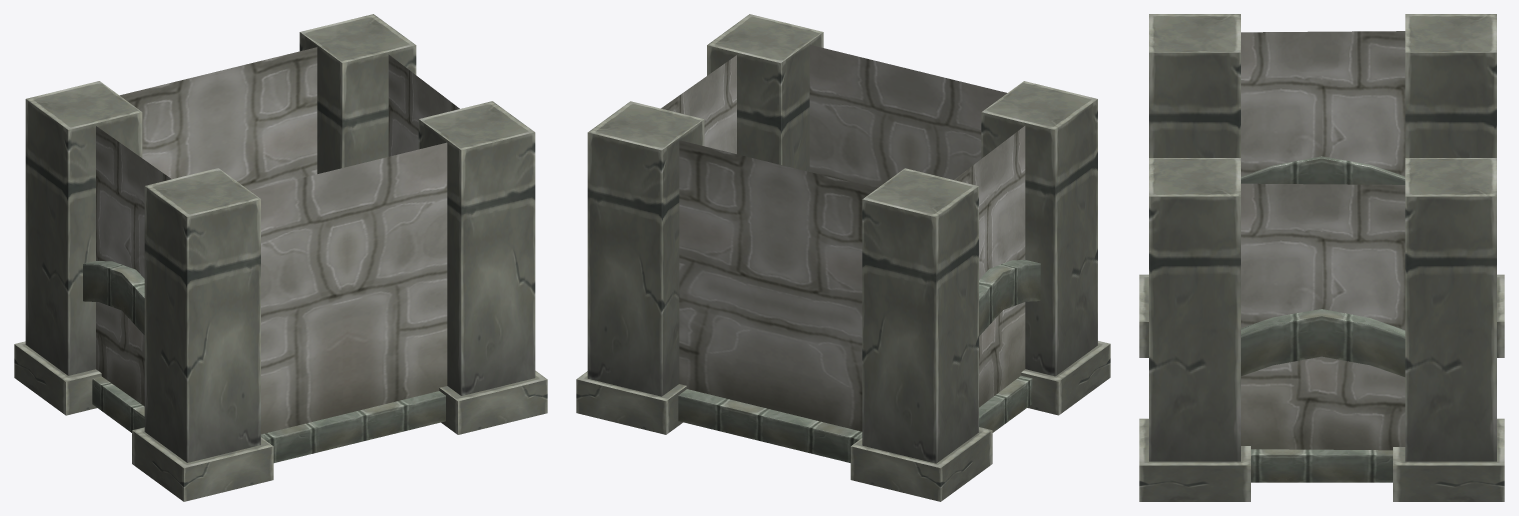
The model's file is bridge_04c_downside.fbx.
3 views of the same model, side by side, from view 1: azimuth 30°, elevation 25°; view 2: azimuth 150°, elevation 25°; view 3: azimuth 270°, elevation 25° (orthographic). The views are drawn at different scales.
Parts seen in each view (by area): view 1: bridge_04c_downside; view 2: bridge_04c_downside; view 3: bridge_04c_downside.
Boxes of the visible parts, x1,y1,x2,y2 form: bridge_04c_downside: (14,14,547,501); bridge_04c_downside: (576,14,1110,501); bridge_04c_downside: (1139,14,1504,501).
Size of the model in its own units: 3.19 by 2.34 by 2.58.
